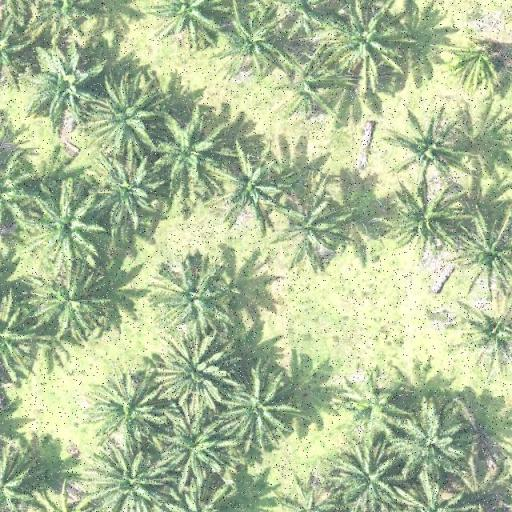Ganoderma: (453, 40, 500, 84), (350, 390, 392, 430)
